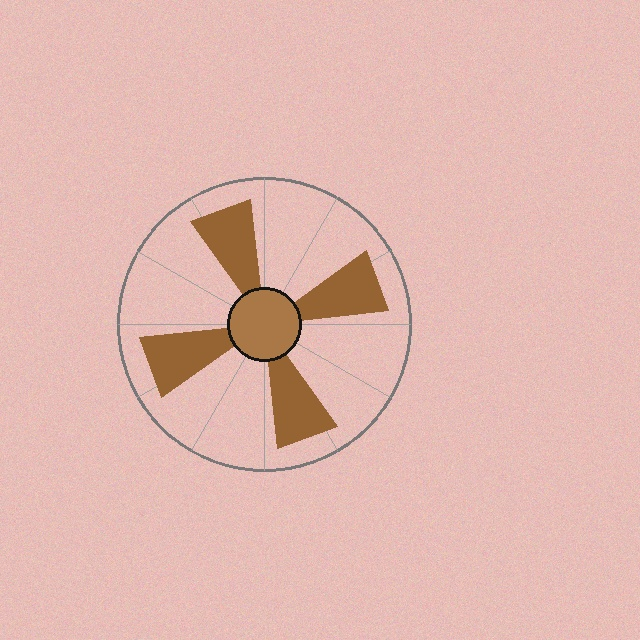fan: (113, 173, 415, 475)
